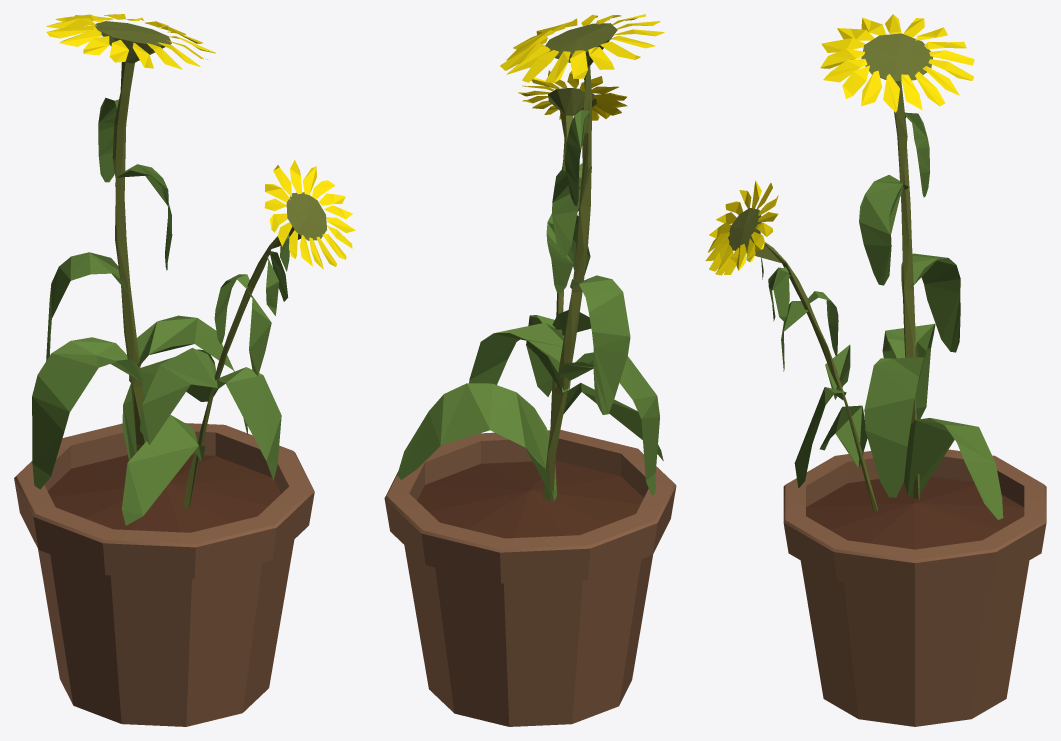
The model's file is Pot_Flower_2.fbx.
3 renders of one model, left to right at view 1: azimuth 30°, elevation 25°; view 2: azimuth 150°, elevation 25°; view 3: azimuth 270°, elevation 25°, orthographic. The views are drawn at different scales.
Visible parts, largest first — view 1: polySurface2350; view 2: polySurface2350; view 3: polySurface2350.
Boxes of the visible parts, box(x1,y1,x2,y2) form: polySurface2350: box(14, 14, 355, 726); polySurface2350: box(384, 14, 676, 726); polySurface2350: box(705, 14, 1046, 726).
Bounding box in the file's own units: 0.6495 × 1.61 × 0.8013.
Materials: 1 (1 with a texture image).
